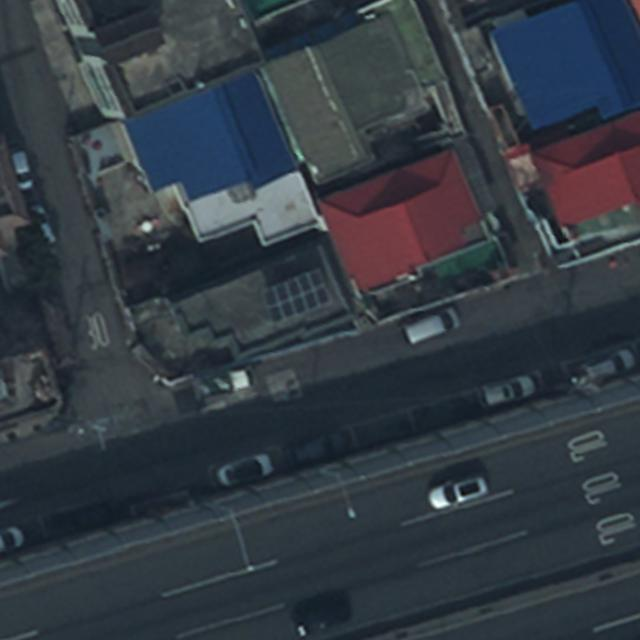panel: (258, 266, 333, 325)
